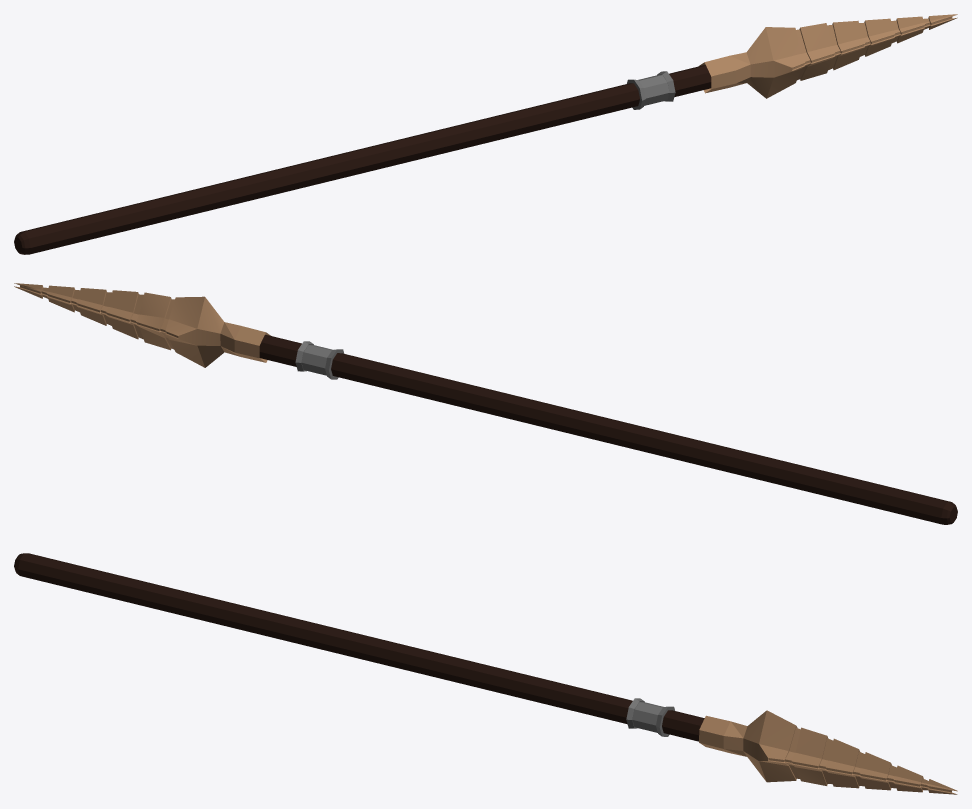
File: Joshua_M_Spear_01.fbx
3 views of the same model, one above another, from view 1: azimuth 30°, elevation 25°; view 2: azimuth 150°, elevation 25°; view 3: azimuth 330°, elevation 25° (orthographic).
Parts seen in each view (by area): view 1: Spear; view 2: Spear; view 3: Spear.
Boxes of the visible parts, x1,y1,x2,y2 form: Spear: [14, 14, 957, 254]; Spear: [14, 283, 957, 524]; Spear: [14, 553, 957, 794].
Bounding box in the file's own units: 25.62 × 1.87 × 1.19.
